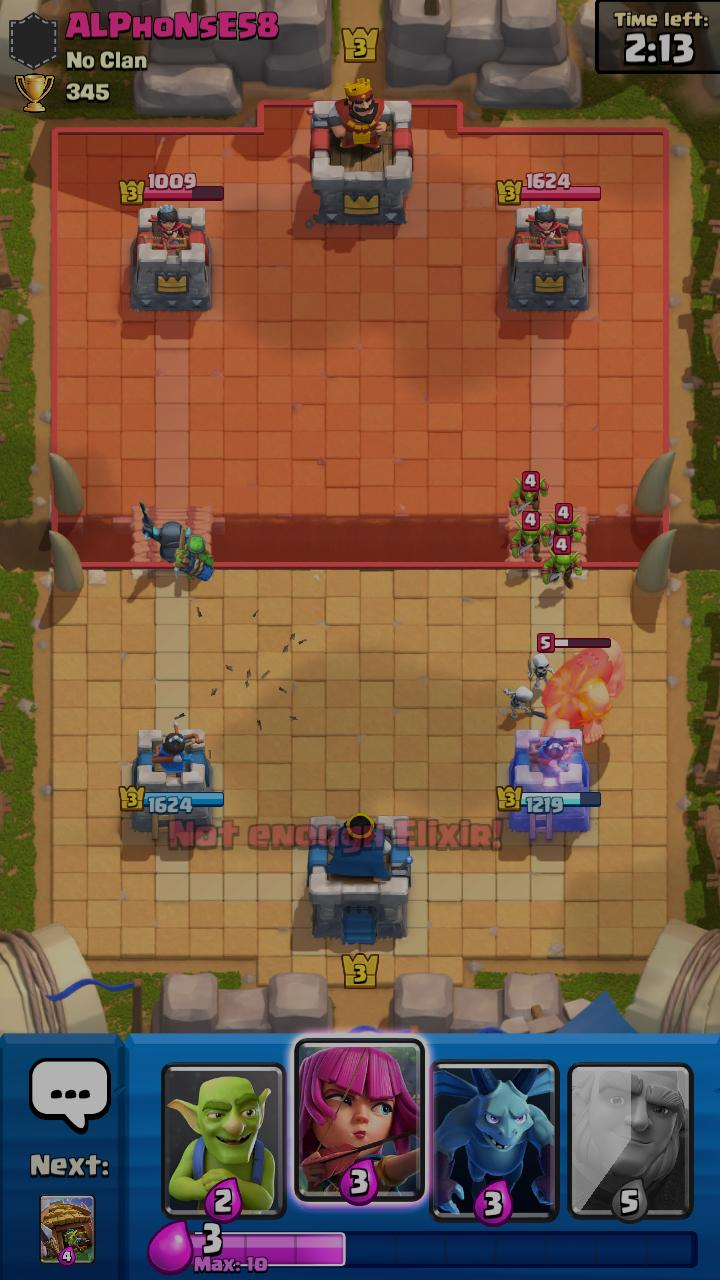ally: (139, 502, 191, 562), (174, 527, 215, 582), (503, 686, 547, 719), (527, 654, 555, 689), (574, 651, 582, 656)
enemy: (537, 632, 625, 744), (541, 535, 583, 589), (510, 510, 550, 562), (510, 471, 549, 516), (545, 503, 584, 542)
